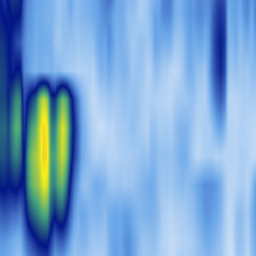defect: (24, 81, 54, 246), (54, 80, 78, 237), (3, 74, 24, 213), (211, 1, 227, 100)
